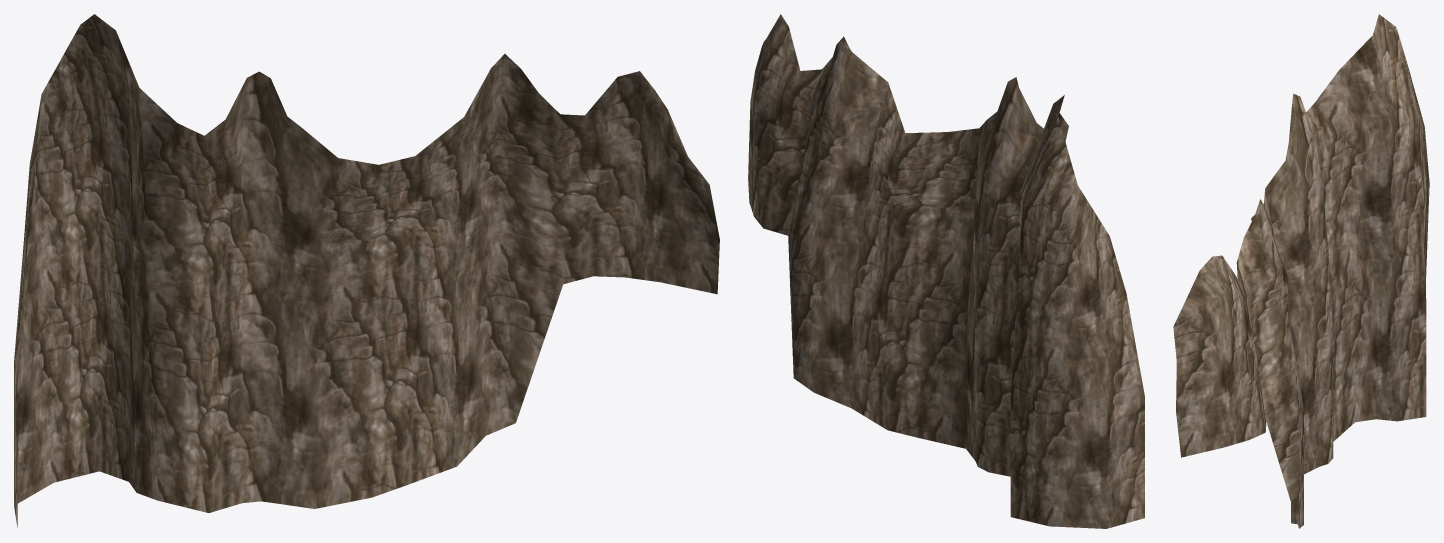
File: OVERHILL_A_01_MOUNTAIN_BACKDROP_05.fbx
3 renders of one model, left to right at view 1: azimuth 30°, elevation 25°; view 2: azimuth 150°, elevation 25°; view 3: azimuth 270°, elevation 25°, orthographic. The views are drawn at different scales.
Parts seen in each view (by area): view 1: OVERHILL_A_01_MOUNTAIN_BACKDROP_05; view 2: OVERHILL_A_01_MOUNTAIN_BACKDROP_05; view 3: OVERHILL_A_01_MOUNTAIN_BACKDROP_05.
Part boxes in pixels (x1,y1,x2,y2): OVERHILL_A_01_MOUNTAIN_BACKDROP_05: [14, 14, 719, 527]; OVERHILL_A_01_MOUNTAIN_BACKDROP_05: [748, 14, 1144, 528]; OVERHILL_A_01_MOUNTAIN_BACKDROP_05: [1173, 14, 1429, 528].
Size of the model in its own units: 359709 by 293820 by 170746.
Materials: 1 (1 with a texture image).
